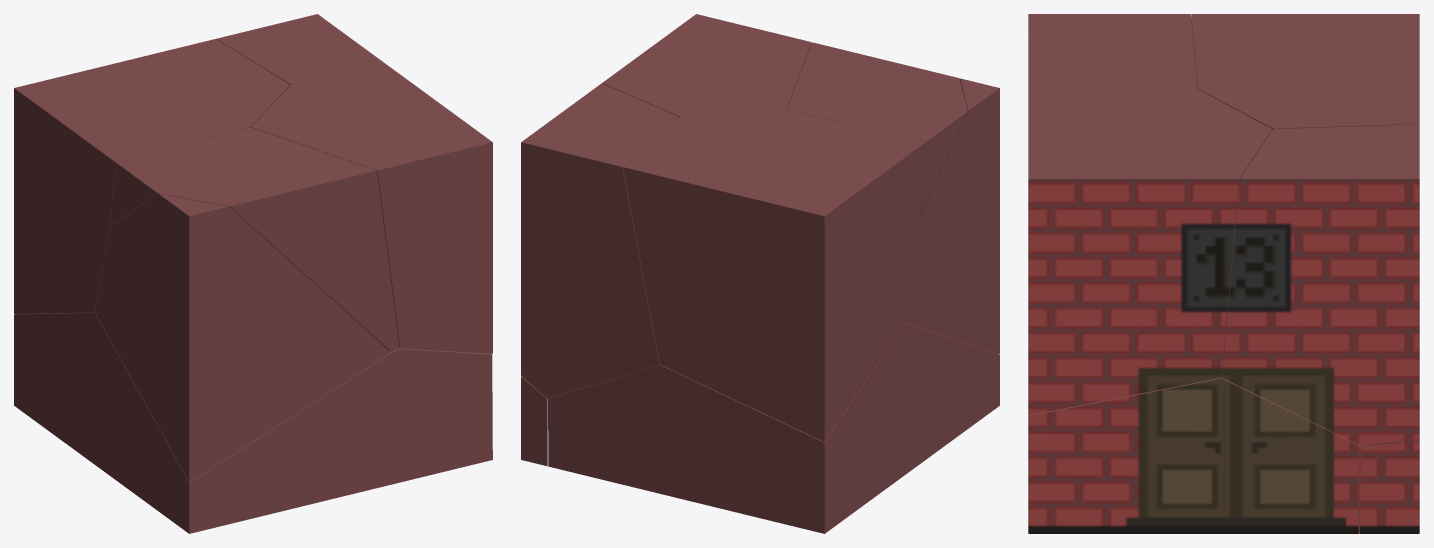
The model's file is BrickBuildingRed128x128_Ground02_break.fbx.
3 renders of one model, left to right at view 1: azimuth 30°, elevation 25°; view 2: azimuth 150°, elevation 25°; view 3: azimuth 270°, elevation 25°, orthographic. The views are drawn at different scales.
Visible parts, largest first — view 1: Ground02Break02, Ground02Break04, Ground02Break06, Ground02Break07, Ground02Break03, Ground02Break01; view 2: Ground02Break06, Ground02Break02, Ground02Break01, Ground02Break04, Ground02Break07, Ground02Break03, Ground02Break05; view 3: Ground02Break07, Ground02Break01, Ground02Break02, Ground02Break06, Ground02Break03, Ground02Break05, Ground02Break04.
Boxes of the visible parts, x1,y1,x2,y2 form: Ground02Break02: (14, 312, 492, 533); Ground02Break04: (95, 193, 390, 482); Ground02Break06: (14, 39, 289, 313); Ground02Break07: (251, 73, 492, 353); Ground02Break03: (109, 127, 399, 351); Ground02Break01: (216, 14, 397, 85); Ground02Break06: (623, 110, 926, 441); Ground02Break02: (548, 322, 999, 533); Ground02Break01: (521, 83, 678, 398); Ground02Break04: (905, 78, 999, 354); Ground02Break07: (602, 14, 811, 117); Ground02Break03: (787, 42, 967, 214); Ground02Break05: (521, 376, 547, 466); Ground02Break07: (1028, 89, 1272, 415); Ground02Break01: (1222, 124, 1419, 445); Ground02Break02: (1028, 377, 1369, 533); Ground02Break06: (1191, 14, 1419, 129); Ground02Break03: (1028, 14, 1198, 116); Ground02Break05: (1360, 441, 1419, 533); Ground02Break04: (1028, 14, 1098, 35).
Size of the model in its own units: 100 by 100 by 100.
Materials: 1 (1 with a texture image).
